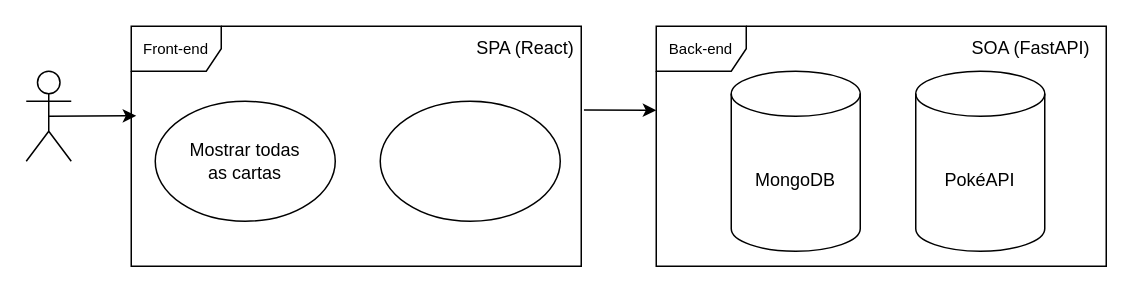
This 1133x293 diagram has some shape labels left out. The box of each missing label's shape, as (x1, y1, x2, y2) in pixels:
Mostrar baralho do jogador: (379, 100, 560, 221)
User: (25, 70, 71, 161)
